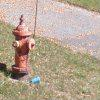Hydrant: (3, 8, 37, 89)
